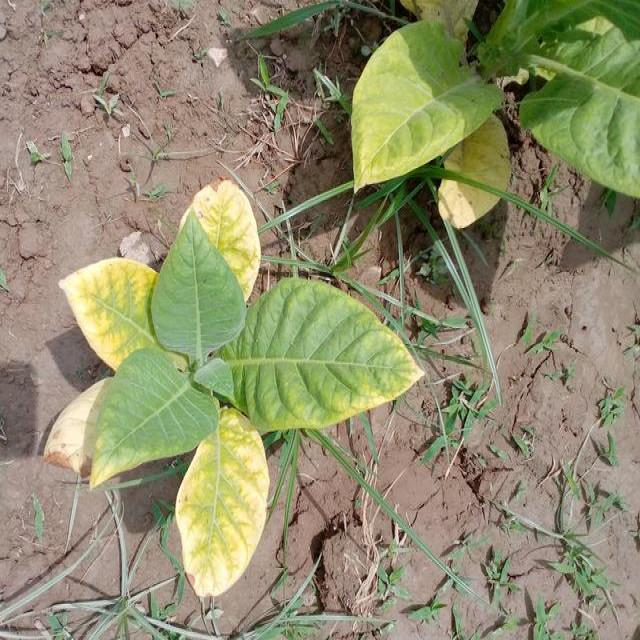crop: (48, 206, 424, 559), (340, 8, 638, 228)
